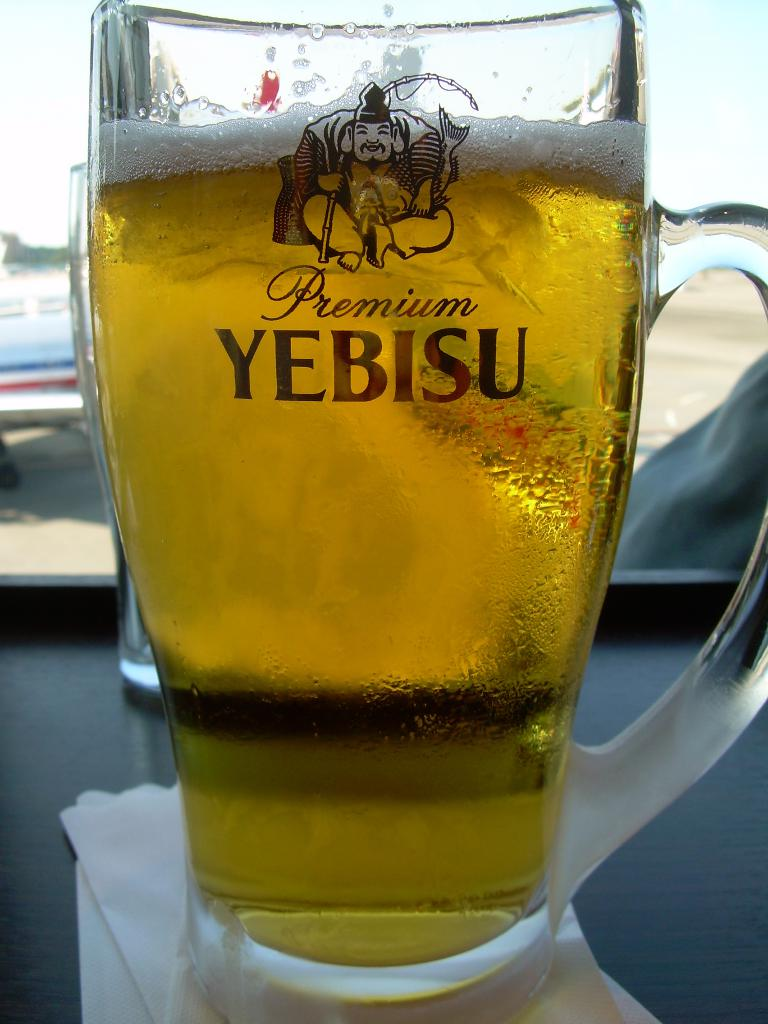Beer: (86, 81, 647, 973)
